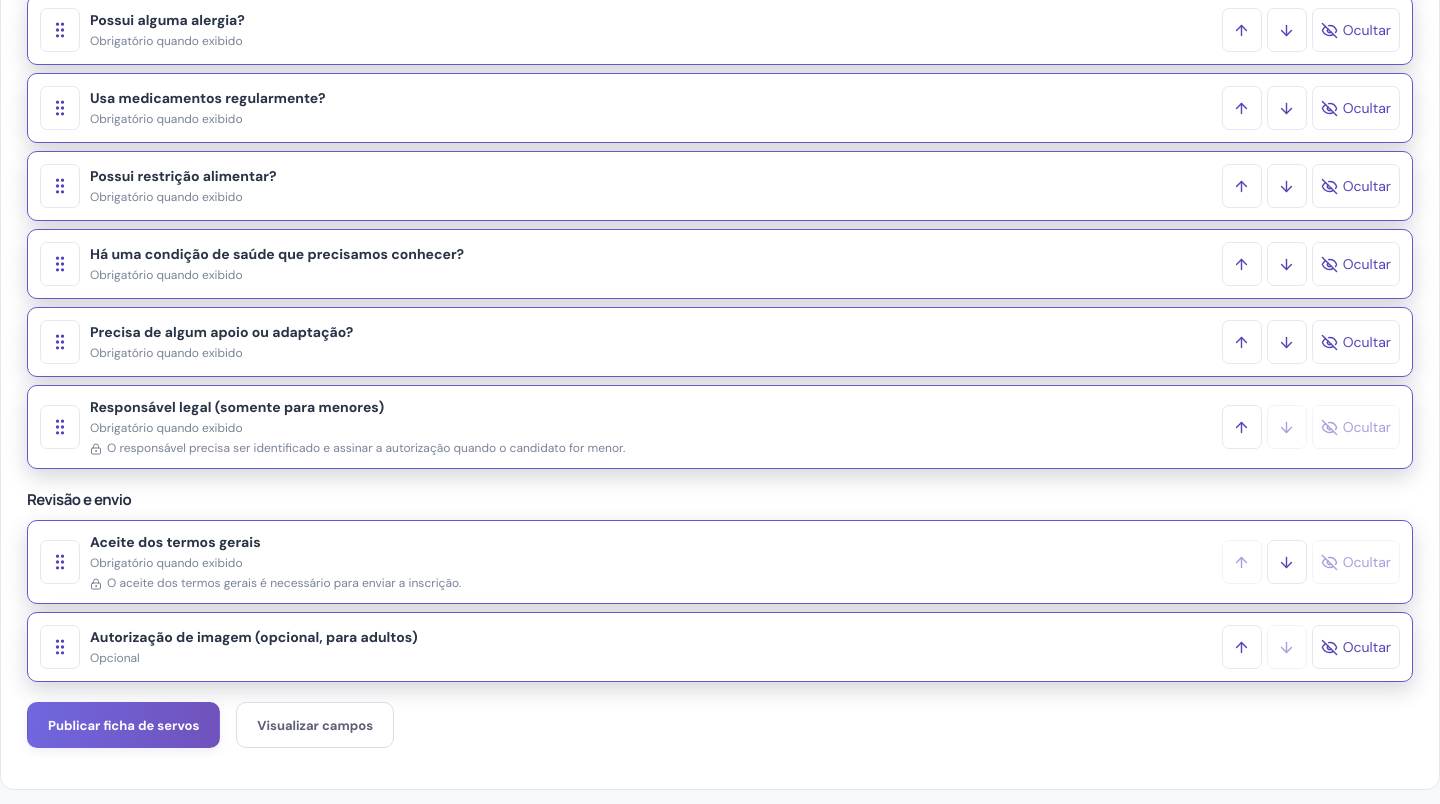
Scenario: Publicação da ficha de servos › preferências vêm dos departamentos do evento e não permitem digitar equipes soltas
(page scrolled)
Click the button "Publicar ficha de servos": (124, 725) [27,702,220,748]
(page scrolled)
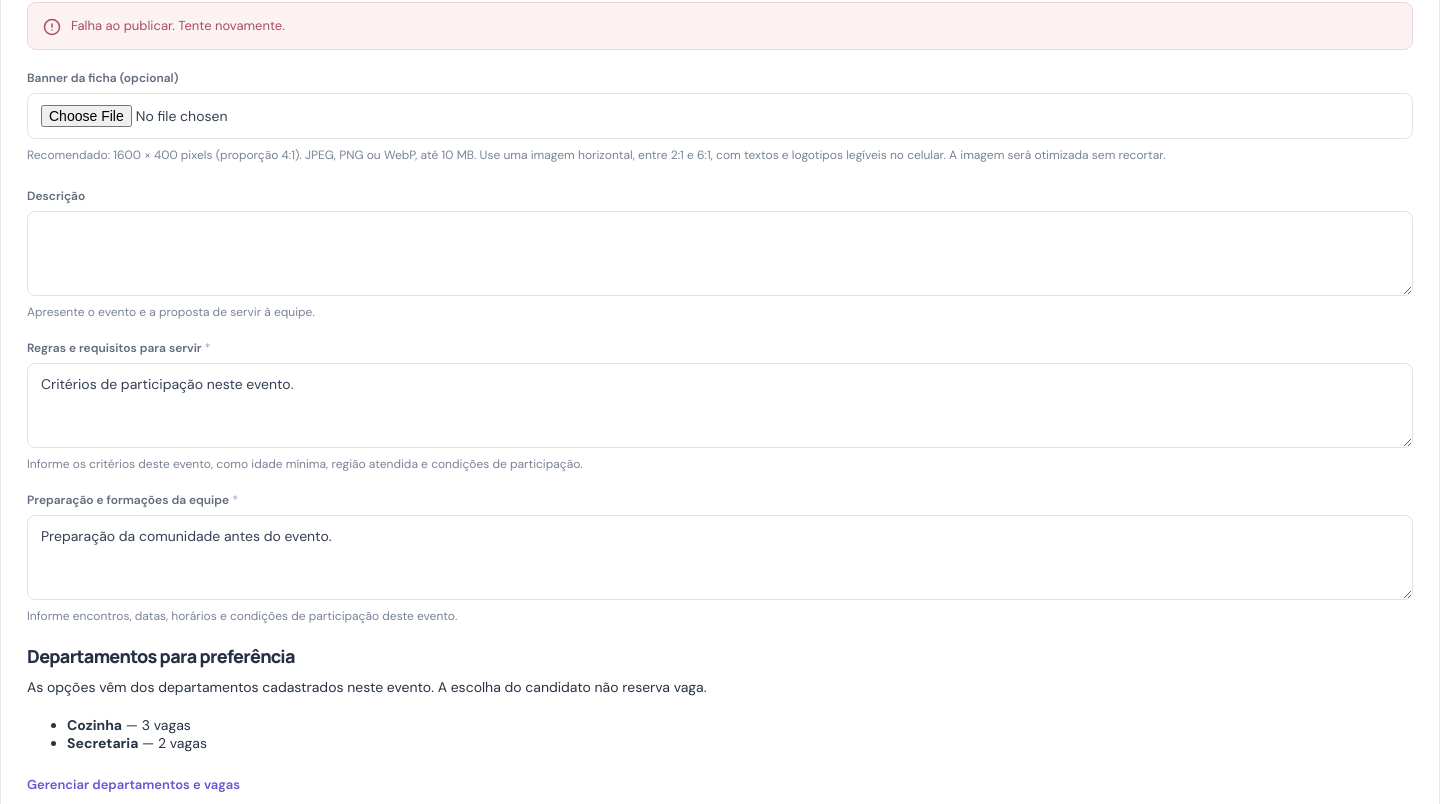
Expected: the text box labelled "Regras e requisitos" holds "Critérios de participação neste evento.", [27,363,1413,448]
Result: the message "Falha ao publicar. Tente novamente." is shown at [27,2,1413,50]
